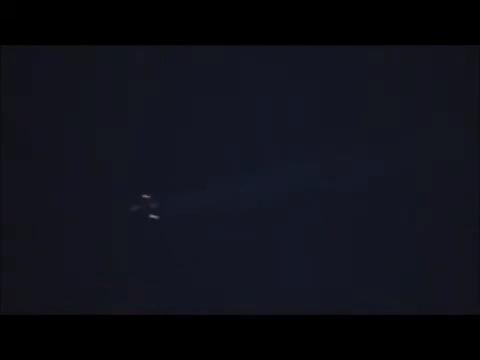Plane: (107, 185, 192, 230)
